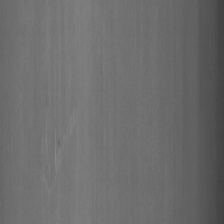silk_spot: (36, 101, 83, 201)
